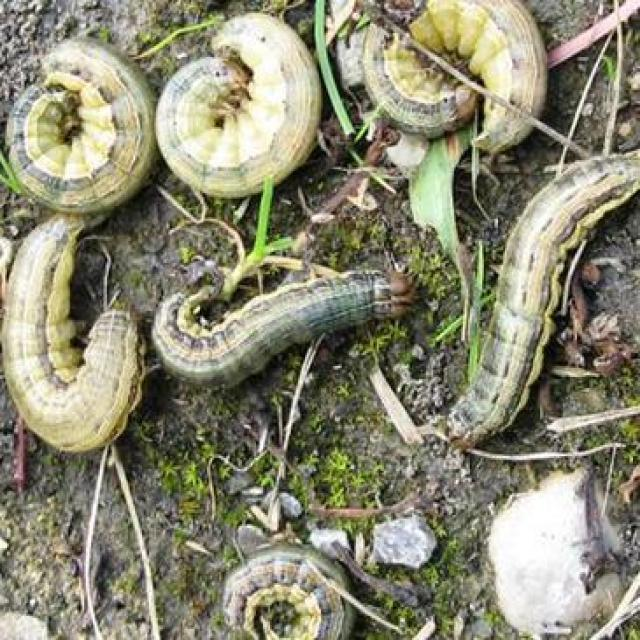armyworm: (17, 1, 634, 431), (3, 36, 162, 237), (152, 275, 422, 377), (226, 541, 355, 640)
